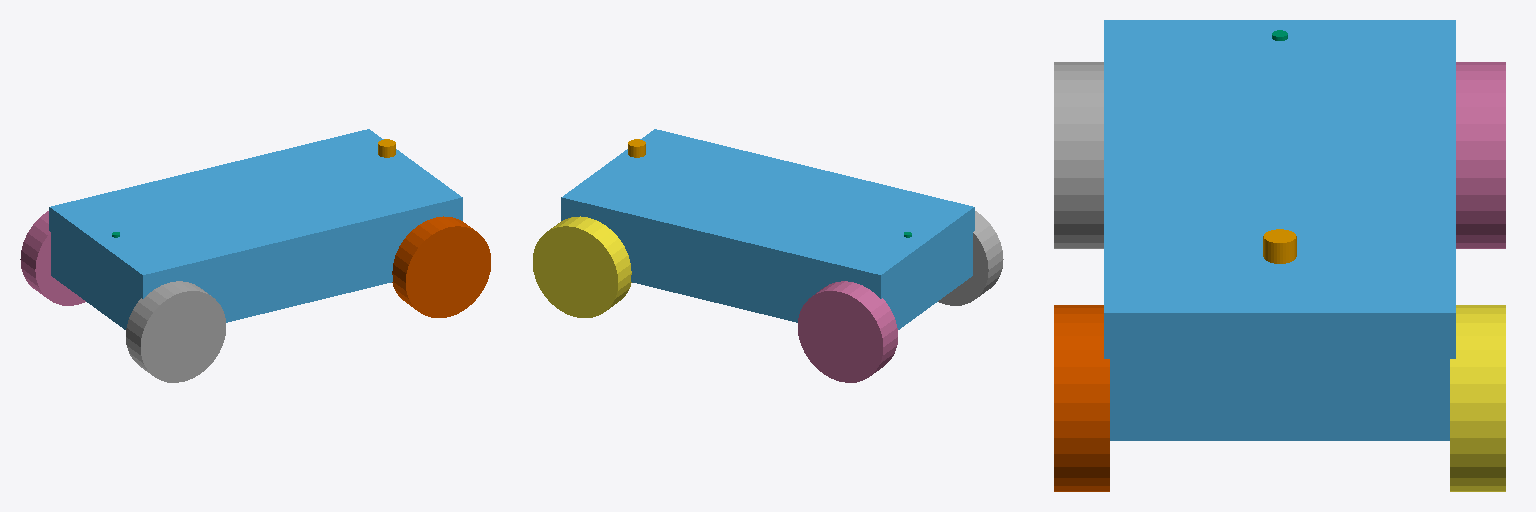
The robot description file, URDF, robot "buggy":
<?xml version="1.0"?>
<!-- Buggy geometry and sensor mounts match Buggy.proto / robocross_buggy.wbt. -->
<robot name="buggy">
    <link name="base_link" />
    <link name="body_link">
        <visual>
            <origin xyz="0.9 0 0.16" />
            <geometry>
                <box size="2.17 1.1 0.44" />
            </geometry>
        </visual>
    </link>
    <joint name="body_joint" type="fixed">
        <parent link="base_link" />
        <child link="body_link" />
    </joint>
    <link name="front_left_steer_link" />
    <joint name="front_left_steer_joint" type="revolute">
        <parent link="base_link" />
        <child link="front_left_steer_link" />
        <origin xyz="1.799622521265 0.619203986095 0" />
        <axis xyz="0 0 1" />
        <limit lower="-0.6" upper="0.6" effort="100" velocity="10" />
    </joint>
    <link name="front_left_wheel_link">
        <visual>
            <origin rpy="1.5708 0 0" />
            <geometry>
                <cylinder radius="0.29155" length="0.175" />
            </geometry>
        </visual>
    </link>
    <joint name="front_left_wheel_joint" type="continuous">
        <parent link="front_left_steer_link" />
        <child link="front_left_wheel_link" />
        <axis xyz="0 1 0" />
    </joint>
    <link name="front_right_steer_link" />
    <joint name="front_right_steer_joint" type="revolute">
        <parent link="base_link" />
        <child link="front_right_steer_link" />
        <origin xyz="1.799622521265 -0.619203986095 0" />
        <axis xyz="0 0 1" />
        <limit lower="-0.6" upper="0.6" effort="100" velocity="10" />
    </joint>
    <link name="front_right_wheel_link">
        <visual>
            <origin rpy="1.5708 0 0" />
            <geometry>
                <cylinder radius="0.29155" length="0.175" />
            </geometry>
        </visual>
    </link>
    <joint name="front_right_wheel_joint" type="continuous">
        <parent link="front_right_steer_link" />
        <child link="front_right_wheel_link" />
        <axis xyz="0 1 0" />
    </joint>
    <link name="rear_left_wheel_link">
        <visual>
            <origin rpy="1.5708 0 0" />
            <geometry>
                <cylinder radius="0.29155" length="0.175" />
            </geometry>
        </visual>
    </link>
    <joint name="rear_left_wheel_joint" type="continuous">
        <parent link="base_link" />
        <child link="rear_left_wheel_link" />
        <origin xyz="0 0.618806234333 0" />
        <axis xyz="0 1 0" />
    </joint>
    <link name="rear_right_wheel_link">
        <visual>
            <origin rpy="1.5708 0 0" />
            <geometry>
                <cylinder radius="0.29155" length="0.175" />
            </geometry>
        </visual>
    </link>
    <joint name="rear_right_wheel_joint" type="continuous">
        <parent link="base_link" />
        <child link="rear_right_wheel_link" />
        <origin xyz="0 -0.618806234333 0" />
        <axis xyz="0 1 0" />
    </joint>
    <link name="lidar_link">
        <visual>
            <geometry>
                <cylinder radius="0.0517" length="0.0717" />
            </geometry>
        </visual>
    </link>
    <joint name="lidar_joint" type="fixed">
        <parent link="base_link" />
        <child link="lidar_link" />
        <origin xyz="1.79 0 0.52" rpy="0 0 0" />
    </joint>
    <link name="imu_link">
        <visual>
            <geometry>
                <box size="0.0574 0.0428 0.0235" />
            </geometry>
        </visual>
    </link>
    <joint name="imu_joint" type="fixed">
        <parent link="base_link" />
        <child link="imu_link" />
        <origin xyz="0.96 0 0.03" rpy="0 0 0" />
    </joint>
    <link name="gps_link">
        <visual>
            <geometry>
                <cylinder radius="0.025" length="0.015" />
            </geometry>
        </visual>
    </link>
    <joint name="gps_joint" type="fixed">
        <parent link="base_link" />
        <child link="gps_link" />
        <origin xyz="-0.05 0 0.39" rpy="0 0 0" />
    </joint>
    <link name="base_footprint" />
    <joint name="base_footprint_joint" type="fixed">
        <parent link="base_link" />
        <child link="base_footprint" />
        <origin xyz="0 0 -0.29155" rpy="0 0 0" />
    </joint>
    <link name="camera_link">
        <visual>
            <geometry>
                <box size="0.04 0.03 0.03" />
            </geometry>
        </visual>
    </link>
    <joint name="camera_joint" type="fixed">
        <parent link="base_link" />
        <child link="camera_link" />
        <origin xyz="1.94 0 0.28" rpy="0 0 0" />
    </joint>
    <webots>
        <device reference="gps" type="GPS">
            <ros>
                <enabled>true</enabled>
                <alwaysOn>true</alwaysOn>
                <updateRate>10</updateRate>
                <topicName>/gps/fix</topicName>
                <frameName>gps_link</frameName>
            </ros>
        </device>
        <device reference="rgb_camera" type="Camera">
            <ros>
                <enabled>true</enabled>
                <alwaysOn>true</alwaysOn>
                <updateRate>30</updateRate>
                <topicName>/camera/image_raw</topicName>
                <frameName>camera_link</frameName>
            </ros>
        </device>
        <plugin type="webots_ros2_driver::Ros2IMU">
            <enabled>true</enabled>
            <alwaysOn>true</alwaysOn>
            <updateRate>100</updateRate>
            <topicName>/vesta/imu/data</topicName>
            <frameName>imu_link</frameName>
            <inertialUnitName>imu</inertialUnitName>
            <gyroName>imu_gyro</gyroName>
            <accelerometerName>imu_accelerometer</accelerometerName>
        </plugin>
        <plugin type="webots_ros2_suv.vesta_driver.VestaDriver">
            <wheelbase>1.799622521265</wheelbase>
        </plugin>
    </webots>
</robot>

--- What the picture shows (computed from the rendered views, not written in the file) ---
Views: 3 orthographic renders of the robot side by side, from view 1: azimuth 30°, elevation 25°; view 2: azimuth 150°, elevation 25°; view 3: azimuth 270°, elevation 25°.
Robot: buggy — 13 links, 12 joints (2 revolute, 4 continuous, 6 fixed); root link base_link; default pose: all joints at 0.
Links seen in each view (by area): view 1: body_link, rear_right_wheel_link, front_right_wheel_link, rear_left_wheel_link; view 2: body_link, rear_left_wheel_link, front_left_wheel_link, rear_right_wheel_link; view 3: body_link, front_left_wheel_link, front_right_wheel_link, rear_left_wheel_link, rear_right_wheel_link, lidar_link.
Link boxes in pixels (box(x1,y1,x2,y2)): body_link: box(49, 129, 462, 329); rear_right_wheel_link: box(126, 281, 225, 382); front_right_wheel_link: box(392, 216, 490, 317); rear_left_wheel_link: box(20, 211, 85, 305); body_link: box(561, 129, 974, 329); rear_left_wheel_link: box(798, 281, 897, 382); front_left_wheel_link: box(533, 216, 631, 317); rear_right_wheel_link: box(938, 211, 1003, 305); body_link: box(1104, 20, 1455, 440); front_left_wheel_link: box(1450, 305, 1505, 491); front_right_wheel_link: box(1054, 305, 1109, 491); rear_left_wheel_link: box(1456, 62, 1505, 248); rear_right_wheel_link: box(1054, 62, 1103, 248); lidar_link: box(1263, 229, 1296, 263).
Size in the robot's own frame: 2.38 by 1.41 by 0.8474 metres.
Geometry: primitives only (box / cylinder / sphere), no mesh files.
